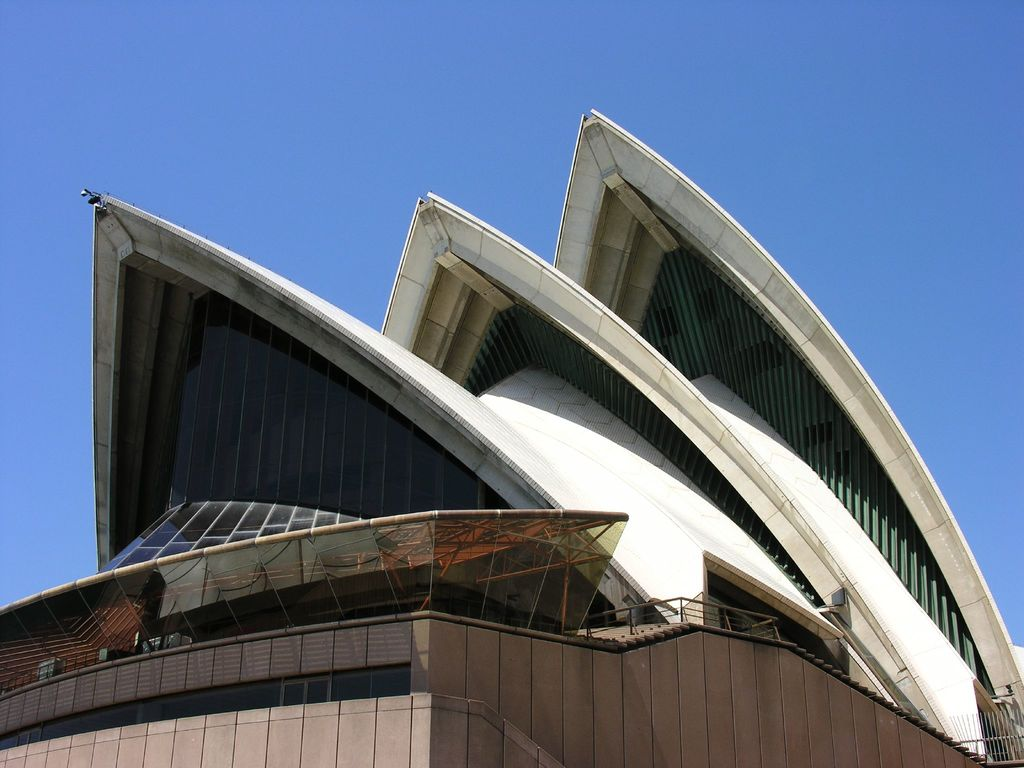Window: (332, 664, 410, 703)
